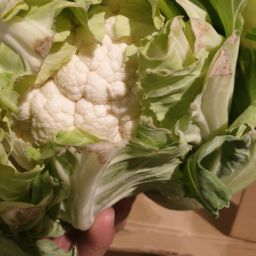Cauliflower: (3, 1, 245, 256), (28, 20, 180, 185), (10, 68, 141, 256)
